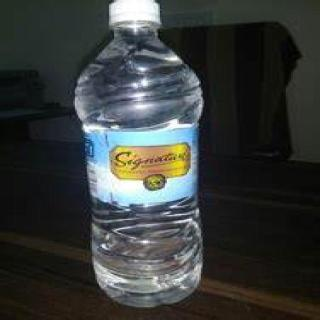Anorganik: (73, 0, 214, 309)
